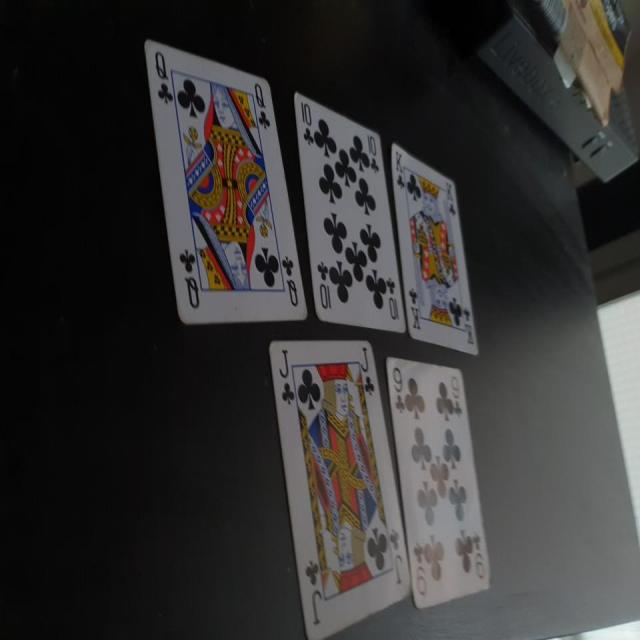10 Trefoils: (292, 88, 406, 335)
9 Trefoils: (386, 354, 496, 608)
J Trefoils: (266, 339, 410, 640)
K Trefoils: (389, 137, 478, 356)
Q Trefoils: (143, 35, 310, 324)
